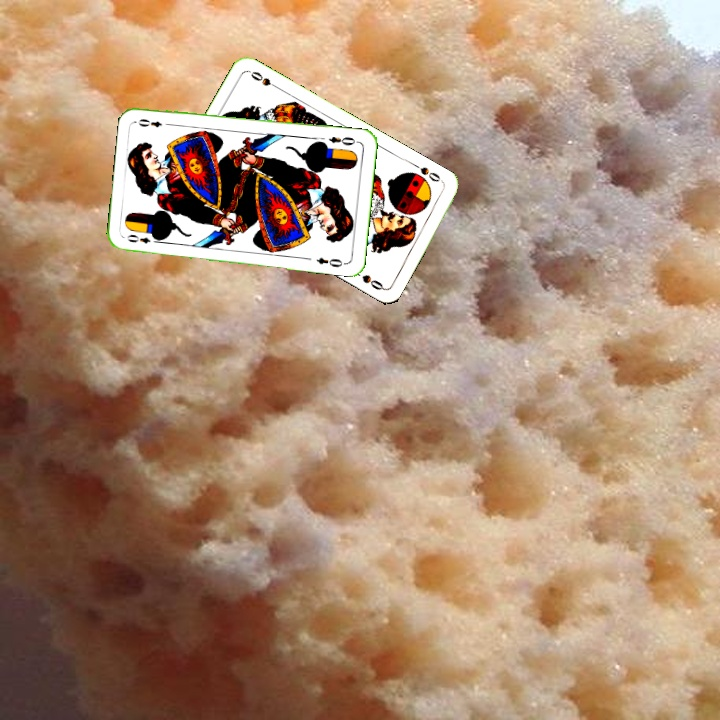EO: (325, 132, 361, 148), (123, 230, 153, 246)
SO: (410, 160, 443, 184)
